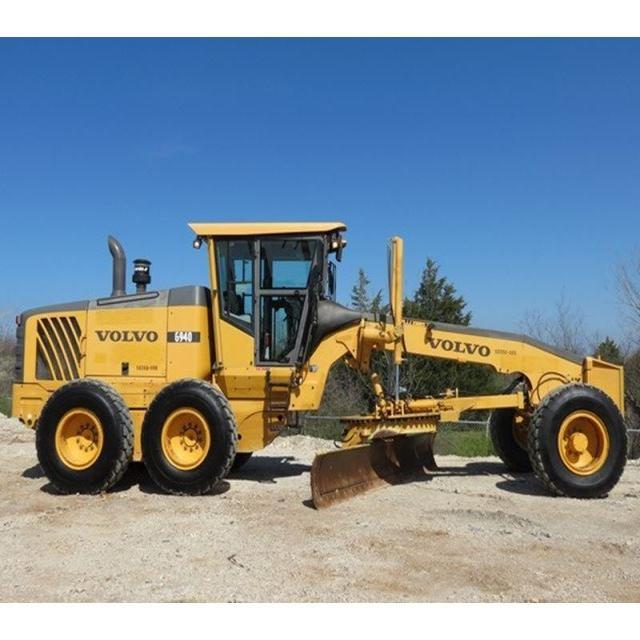buldozerpayloadergrader: (11, 214, 639, 529)
